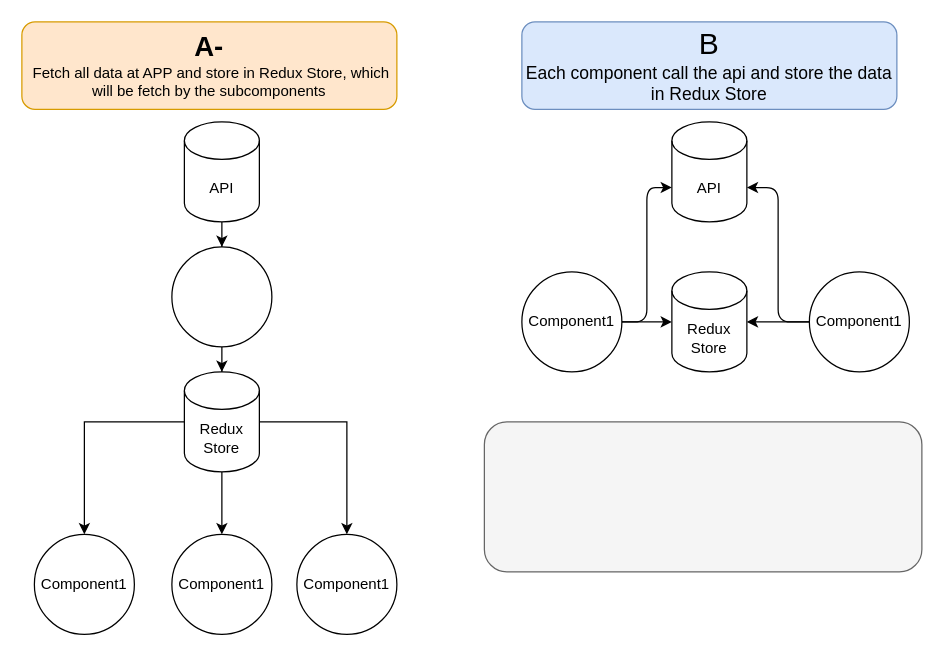
Some shapes in this 944 by 656 pixel diagram are drawn without their labels. Here are the shapes that lost their labels. From the top down, the centre of each, then its label:
point (221, 296): APP
point (702, 496): Which one Would be 1) More efficient 2) Performant
